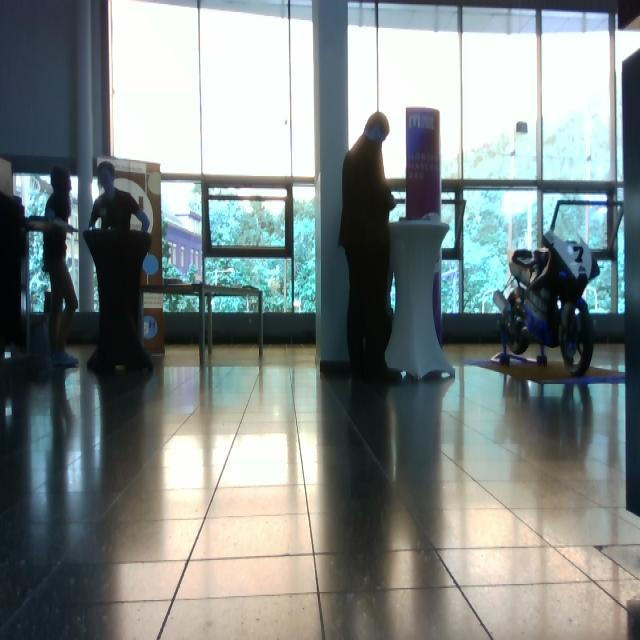light bulb: (142, 253, 159, 276), (516, 121, 528, 134)
person: (338, 110, 404, 384), (87, 161, 153, 373), (35, 165, 80, 368)
table: (384, 215, 458, 387)
tiled floor: (2, 339, 638, 639)
